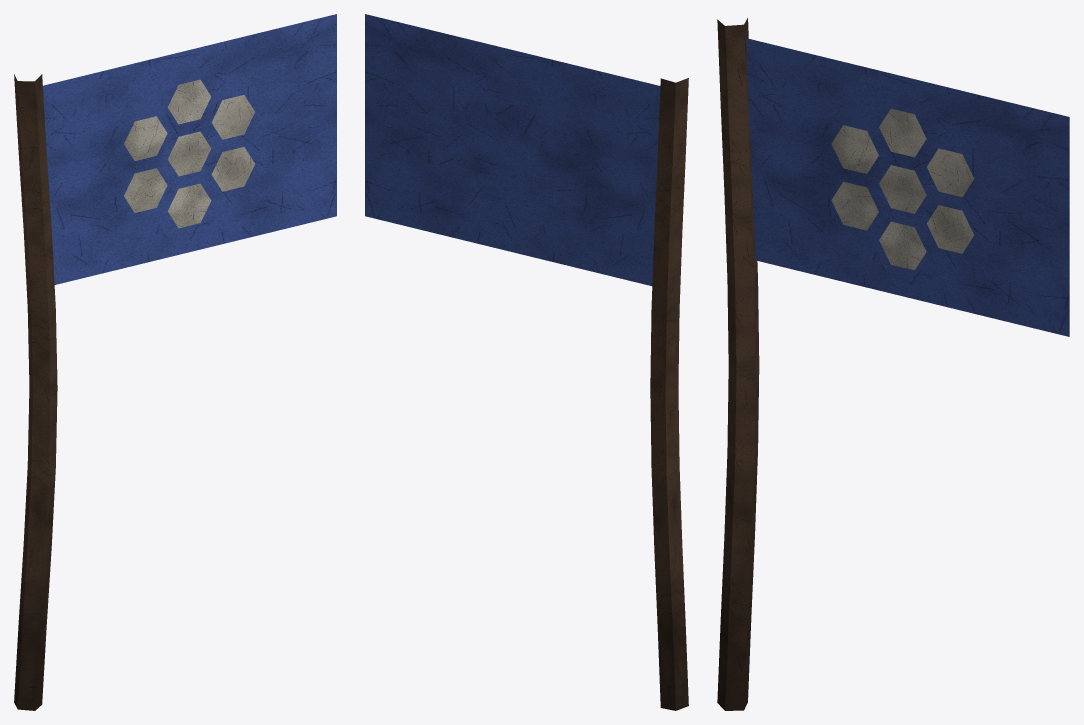
The model's file is flag_nuee.glb.
3 views of the same model, side by side, from view 1: azimuth 30°, elevation 25°; view 2: azimuth 150°, elevation 25°; view 3: azimuth 330°, elevation 25° (orthographic). The views are drawn at different scales.
Visible parts, largest first — view 1: flag_nuee, group_2; view 2: flag_nuee; view 3: flag_nuee, group_2.
Part boxes in pixels (x1,y1,x2,y2): flag_nuee: [14, 14, 336, 710]; group_2: [124, 79, 254, 228]; flag_nuee: [365, 14, 688, 710]; flag_nuee: [717, 18, 1069, 710]; group_2: [831, 108, 974, 270].
Size of the model in its own units: 7.49 by 14.03 by 0.6427.
3 materials, 3 textured.
